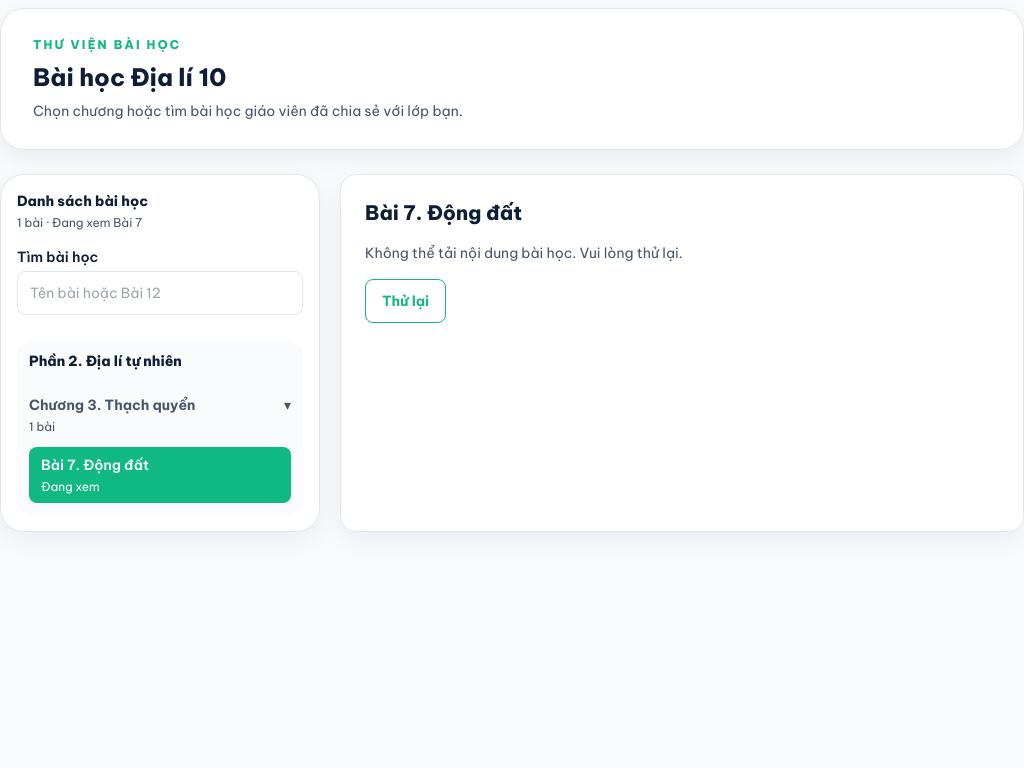
Student Lessons list with Laravel API mock › retries a network failure for the same lesson and accepts an empty snapshot
Expected: the message "Không thể tải nội dung bài học. Vui lòng thử lại. Thử lại" is shown, [365,244,683,323]
Click the button "Thử lại" at point(406, 301), box [365,279,446,323]
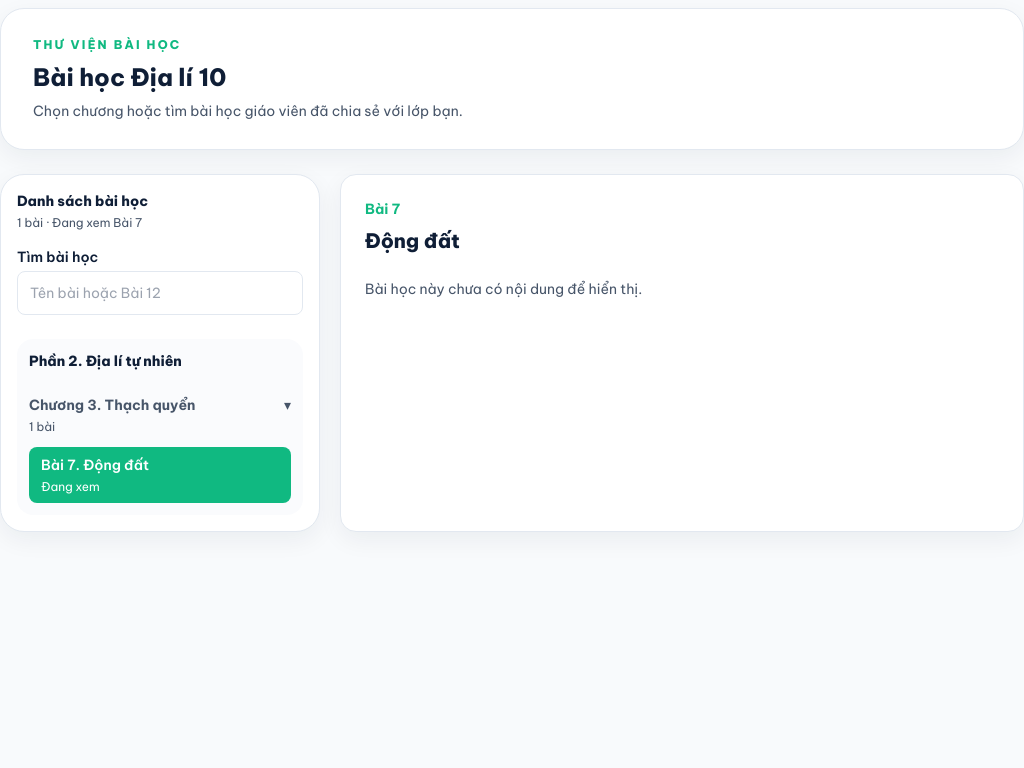
Now the text "chưa có nội dung để hiển thị" is shown, box [365,280,642,298]
